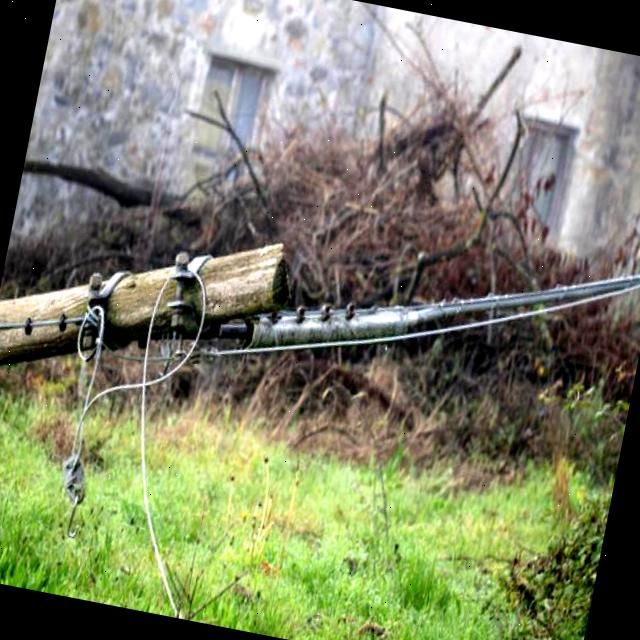Broken Pole: (0, 238, 640, 367)
